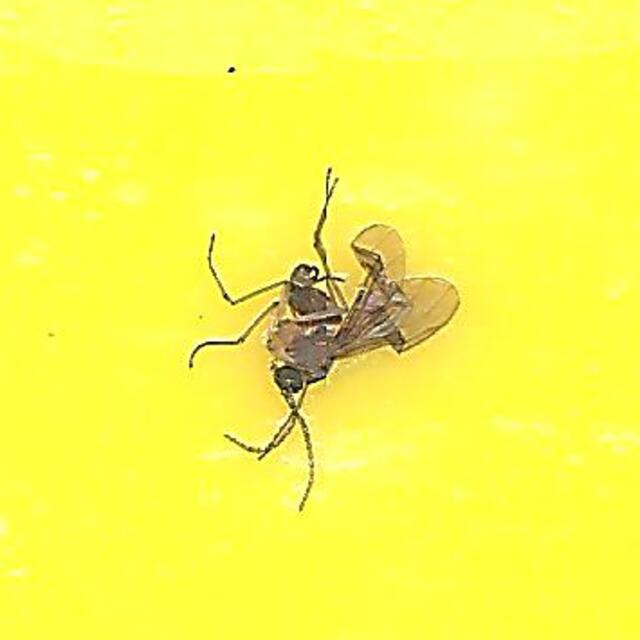Hemiptera: (180, 173, 460, 467)
